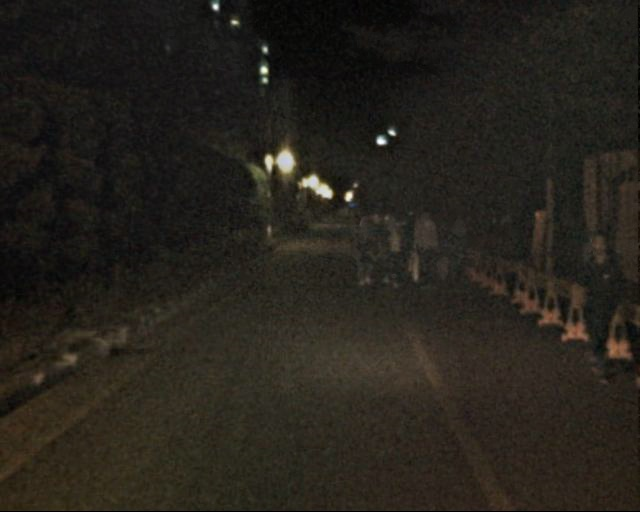person: (566, 235, 624, 376), (408, 208, 443, 293), (347, 212, 378, 288), (445, 214, 475, 286), (375, 213, 405, 285), (392, 217, 417, 277), (432, 224, 456, 282)
